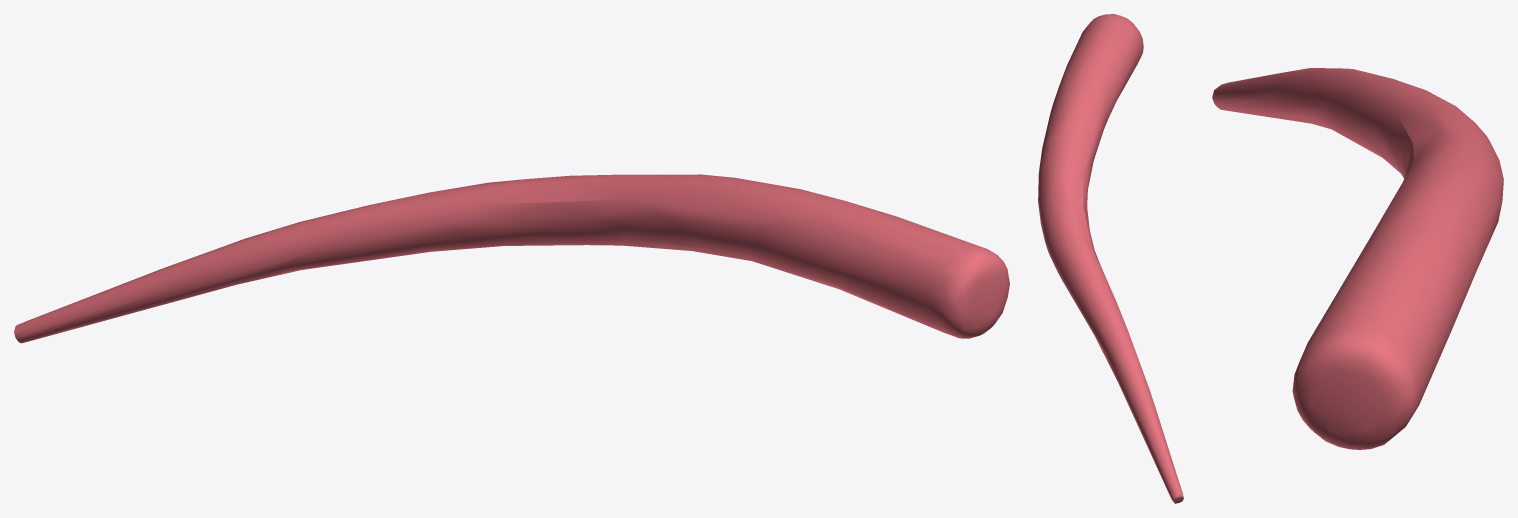
Rendered from fma8627_fj6061.glb.
The picture shows the model from 3 angles, left to right: view 1: azimuth 30°, elevation 25°; view 2: azimuth 150°, elevation 25°; view 3: azimuth 330°, elevation 25°; orthographic projection. The views are drawn at different scales.
Visible parts, largest first — view 1: FMA8627_FJ6061; view 2: FMA8627_FJ6061; view 3: FMA8627_FJ6061.
Part boxes in pixels (x1,y1,x2,y2): FMA8627_FJ6061: [14, 174, 1009, 343]; FMA8627_FJ6061: [1038, 14, 1183, 503]; FMA8627_FJ6061: [1212, 68, 1503, 449].
Bounding box in the file's own units: 0.0463 × 0.0215 × 0.0627.
